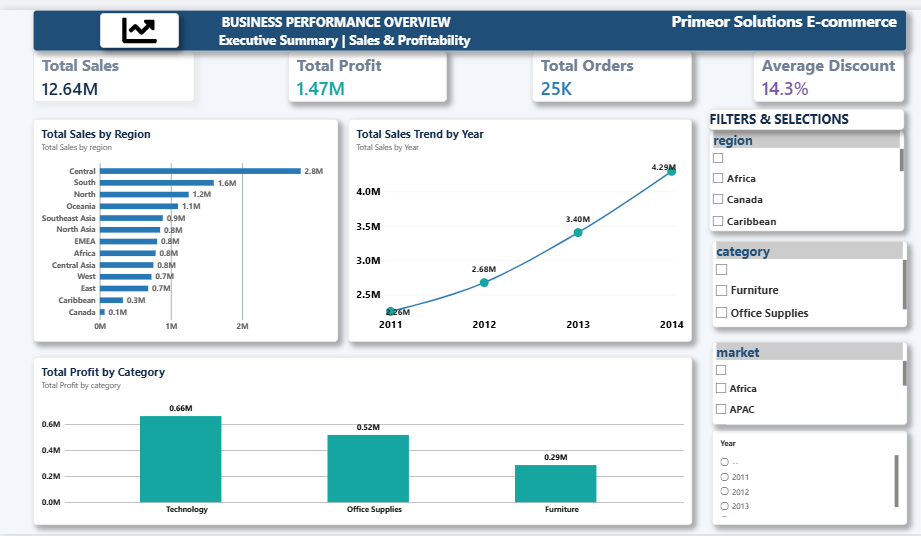

The page's visual inventory and layout, read from the dashboard file:
{"tool":"powerbi","page":{"name":"Executive Overview","canvas":[1920,1080],"ordinal":0},"visuals":[{"type":"cardVisual","fields":{"Data":["Cleaned_Ecommerce_Dataset.Total Sales"]},"box":[70.2,84.6,334.5,105.3],"z":0},{"type":"cardVisual","fields":{"Data":["Cleaned_Ecommerce_Dataset.Total Profit"]},"box":[596.6,84.6,328.3,105.3],"z":1000},{"type":"cardVisual","fields":{"Data":["Cleaned_Ecommerce_Dataset.Total Orders"]},"box":[1100.4,84.6,330.3,105.3],"z":2000},{"type":"cardVisual","fields":{"Data":["Cleaned_Ecommerce_Dataset.Average Discount"]},"box":[1556.6,84.6,311.7,105.3],"z":3000},{"type":"clusteredBarChart","title":"Total Sales by Region","fields":{"Category":["Cleaned_Ecommerce_Dataset.region"],"Y":["Cleaned_Ecommerce_Dataset.Total Sales"]},"box":[70.2,225,629.7,460.4],"z":4000},{"type":"clusteredColumnChart","title":"Total Profit by Category","fields":{"Category":["Cleaned_Ecommerce_Dataset.category"],"Y":["Cleaned_Ecommerce_Dataset.Total Profit"]},"box":[70.2,716.4,1360.5,346.8],"z":5000},{"type":"lineChart","title":"Total Sales Trend by Year","fields":{"Category":["Cleaned_Ecommerce_Dataset.order_date.Variation.Date Hierarchy.Year","Cleaned_Ecommerce_Dataset.order_date.Variation.Date Hierarchy.Quarter","Cleaned_Ecommerce_Dataset.order_date.Variation.Date Hierarchy.Month","Cleaned_Ecommerce_Dataset.order_date.Variation.Date Hierarchy.Day"],"Y":["Cleaned_Ecommerce_Dataset.Total Sales"]},"box":[720.5,225,710.2,460.4],"z":6000},{"type":"listSlicer","fields":{"Values":["Cleaned_Ecommerce_Dataset.order_date.Variation.Date Hierarchy.Year"]},"box":[1472,867.1,402.6,196.1],"z":7000},{"type":"slicer","fields":{"Values":["Cleaned_Ecommerce_Dataset.region"]},"box":[1465.8,247.7,402.6,208.5],"z":8000},{"type":"slicer","fields":{"Values":["Cleaned_Ecommerce_Dataset.market"]},"box":[1472.7,685.3,402.6,171.4],"z":9000},{"type":"slicer","fields":{"Values":["Cleaned_Ecommerce_Dataset.category"]},"box":[1472,476.9,402.6,177.5],"z":10000},{"type":"textbox","box":[70.2,0,1804.4,84.6],"z":11000},{"type":"textbox","box":[1465.8,204.4,402.6,43.4],"z":12000},{"type":"image","box":[208.5,6.2,163.1,72.3],"z":12001}]}

Visuals, with their boxes in screenshot pixels (x1, y1, x2, y2):
cardVisual - Cleaned_Ecommerce_Dataset.Total Sales: rect(22, 49, 186, 100)
cardVisual - Cleaned_Ecommerce_Dataset.Total Profit: rect(281, 49, 442, 100)
cardVisual - Cleaned_Ecommerce_Dataset.Total Orders: rect(528, 49, 690, 100)
cardVisual - Cleaned_Ecommerce_Dataset.Average Discount: rect(751, 49, 904, 100)
"Total Sales by Region" clusteredBarChart: rect(22, 118, 331, 343)
"Total Profit by Category" clusteredColumnChart: rect(22, 359, 690, 529)
"Total Sales Trend by Year" lineChart: rect(341, 118, 690, 343)
listSlicer - Cleaned_Ecommerce_Dataset.order_date.Variation.Date Hierarchy.Year: rect(710, 432, 907, 529)
slicer - Cleaned_Ecommerce_Dataset.region: rect(707, 129, 904, 231)
slicer - Cleaned_Ecommerce_Dataset.market: rect(710, 343, 908, 427)
slicer - Cleaned_Ecommerce_Dataset.category: rect(710, 241, 907, 328)
textbox: rect(22, 7, 907, 49)
textbox: rect(707, 107, 904, 129)
image: rect(90, 10, 170, 46)
